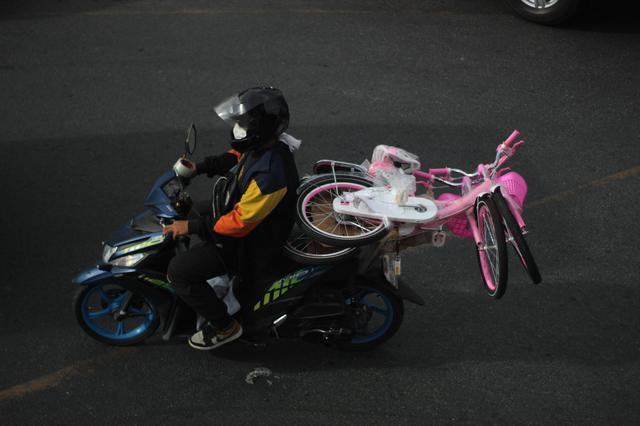helmet: (219, 85, 291, 154)
motorcycle: (71, 81, 406, 354)
